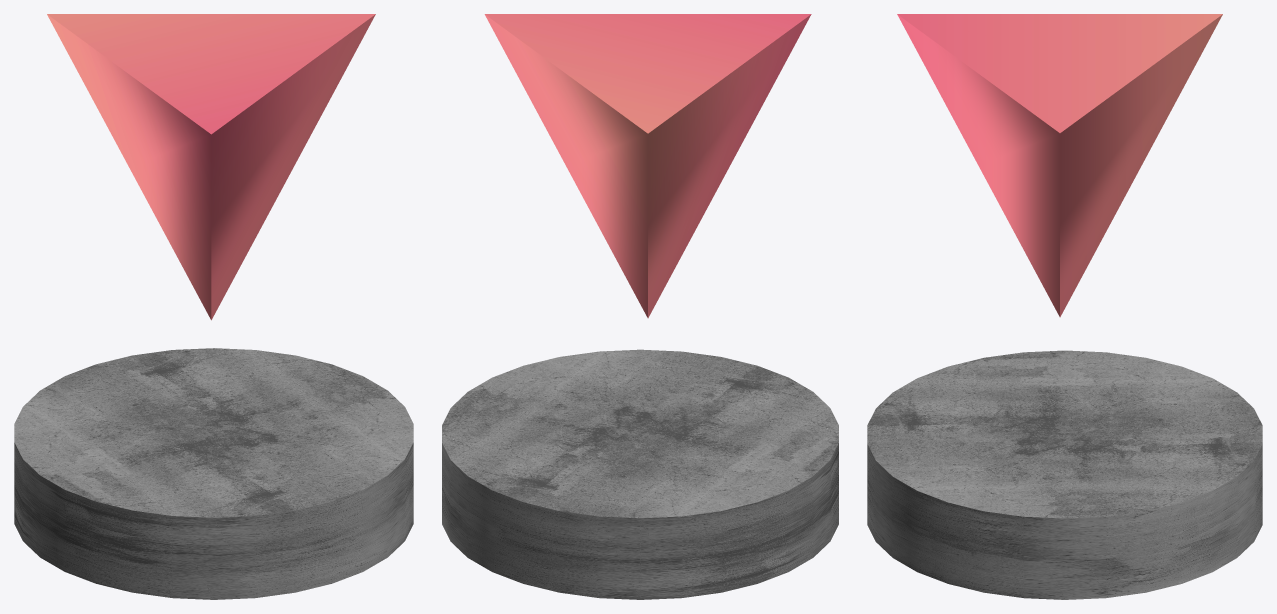
File: pyr-red.glb
3 views of the same model, side by side, from view 1: azimuth 30°, elevation 25°; view 2: azimuth 150°, elevation 25°; view 3: azimuth 270°, elevation 25° (orthographic).
Parts seen in each view (by area): view 1: 031_Cylinder_-_baked, 003_Cone; view 2: 031_Cylinder_-_baked, 003_Cone; view 3: 031_Cylinder_-_baked, 003_Cone.
Part boxes in pixels (<box>): 031_Cylinder_-_baked: <box>14,348,413,599</box>; 003_Cone: <box>47,14,375,320</box>; 031_Cylinder_-_baked: <box>442,349,838,599</box>; 003_Cone: <box>484,14,811,318</box>; 031_Cylinder_-_baked: <box>867,350,1262,599</box>; 003_Cone: <box>897,14,1222,317</box>.
Size of the model in its own units: 18.41 by 23.47 by 18.31.
Materials: 2 (2 with a texture image).
